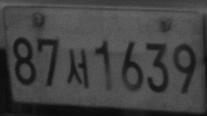1: (91, 40, 117, 91)
3: (144, 42, 168, 93)
6: (120, 41, 144, 92)
7: (37, 38, 59, 86)
8: (11, 36, 37, 86)
9: (171, 42, 198, 94)
서: (66, 48, 89, 89)
